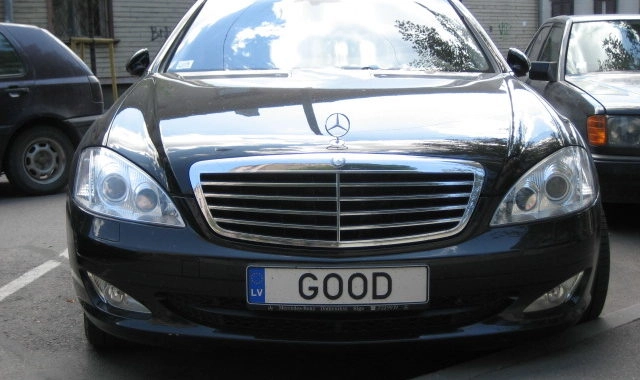license plate: (242, 260, 430, 312)
